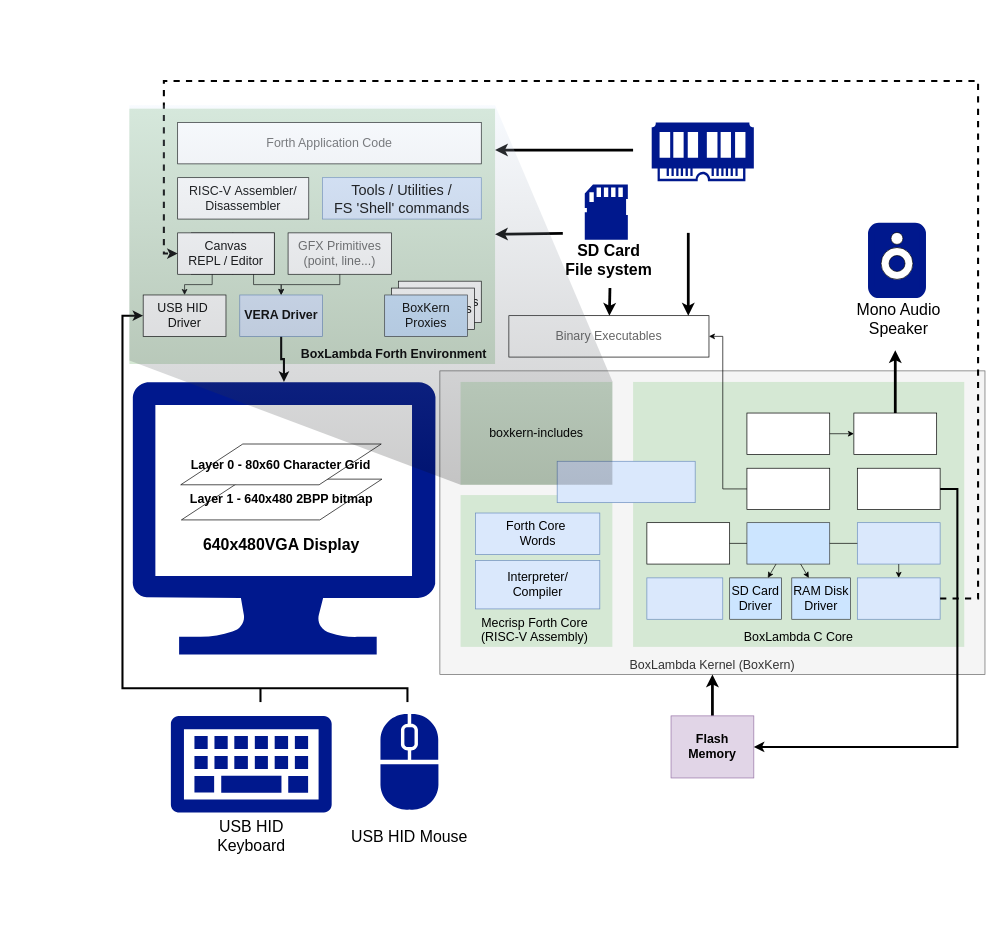
Image size: 997x925. Some labels were removed from this diagram. Each missing label, with the centre of its shape:
"Console Driver" belongs at point (898, 598).
"ELF Loader" belongs at point (788, 489).
"FatFS" belongs at point (788, 543).
"Flash Driver" belongs at point (898, 489).
"Forth FFI" belongs at point (625, 482).
"PicoLibc" belongs at point (898, 543).
"RAM File system" belongs at point (702, 151).
"RTC Timekeeping" belongs at point (688, 543).
"ST-Sound Library" belongs at point (788, 433).
"UART Driver" belongs at point (684, 598).
"YM2149 PSG Driver" belongs at point (895, 433).
